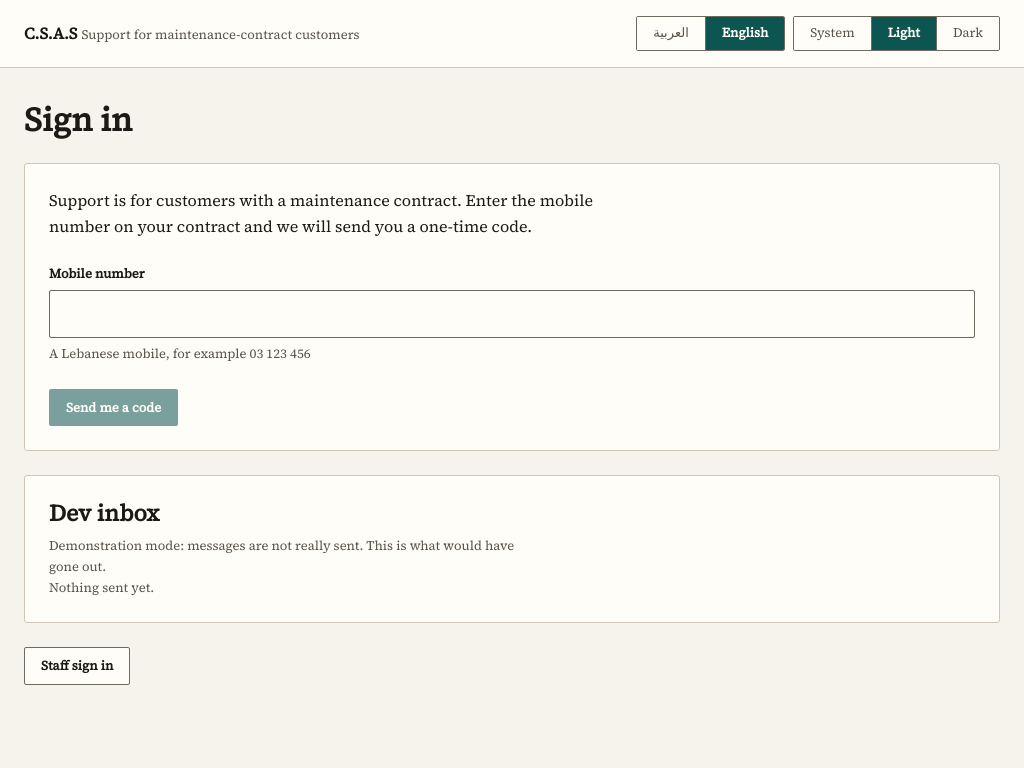
Test: the language switcher › changes the text, the direction and the stored choice together
Expected: the heading "Sign in" is shown, [24,97,132,142]
Click the button "العربية": {"x": 671, "y": 33} [637,17,705,50]
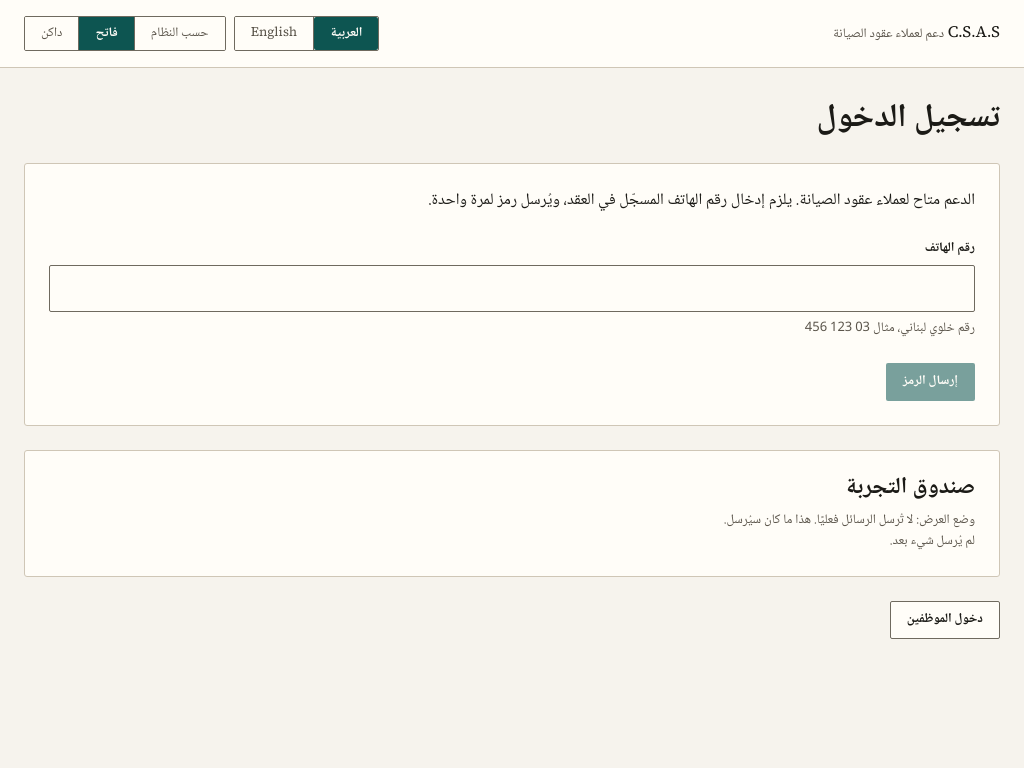
Expected: the heading "تسجيل الدخول" is shown, [816,91,1000,147]
